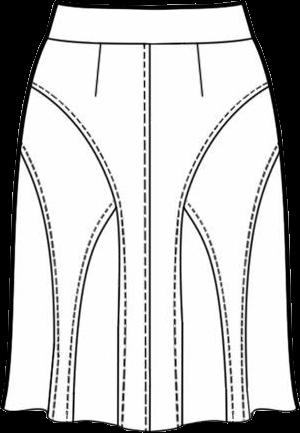Hemline: (0, 404, 299, 432)
Waistline: (177, 83, 273, 425), (29, 84, 124, 427), (17, 152, 116, 421), (241, 153, 284, 418), (184, 210, 229, 424), (44, 35, 255, 47), (55, 0, 243, 9)
